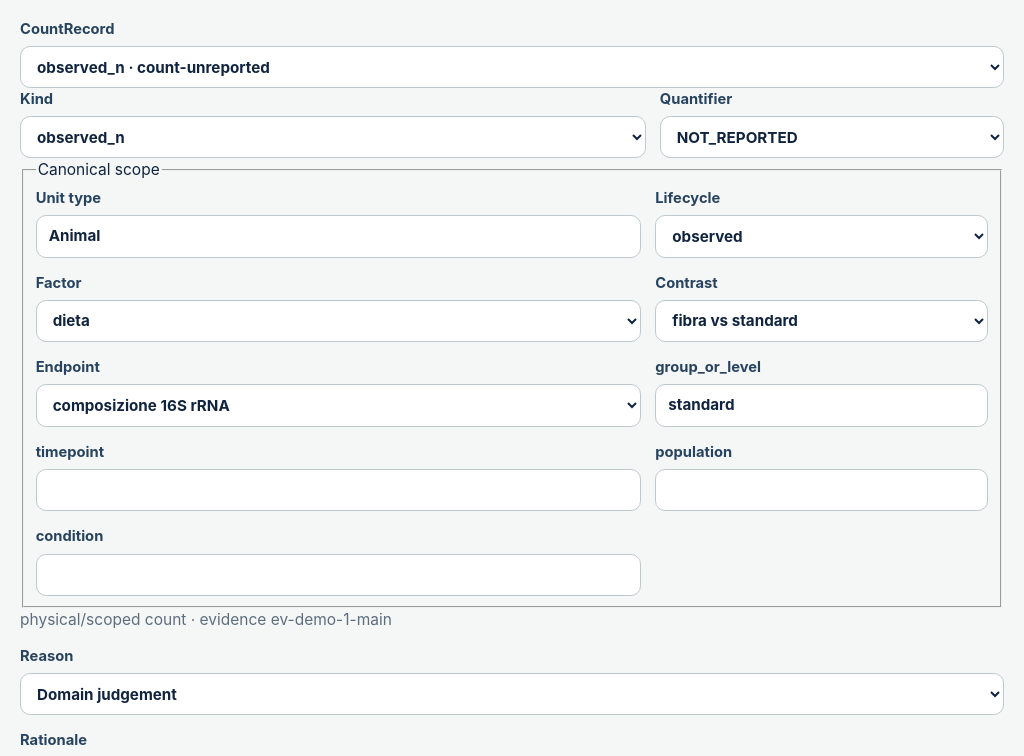
Test case: CanonicalCorrectionForm › requires both range bounds instead of pre-filling them
Select "RANGE" in the dropdown named "Count quantifier": (832, 137) [660,116,1004,158]
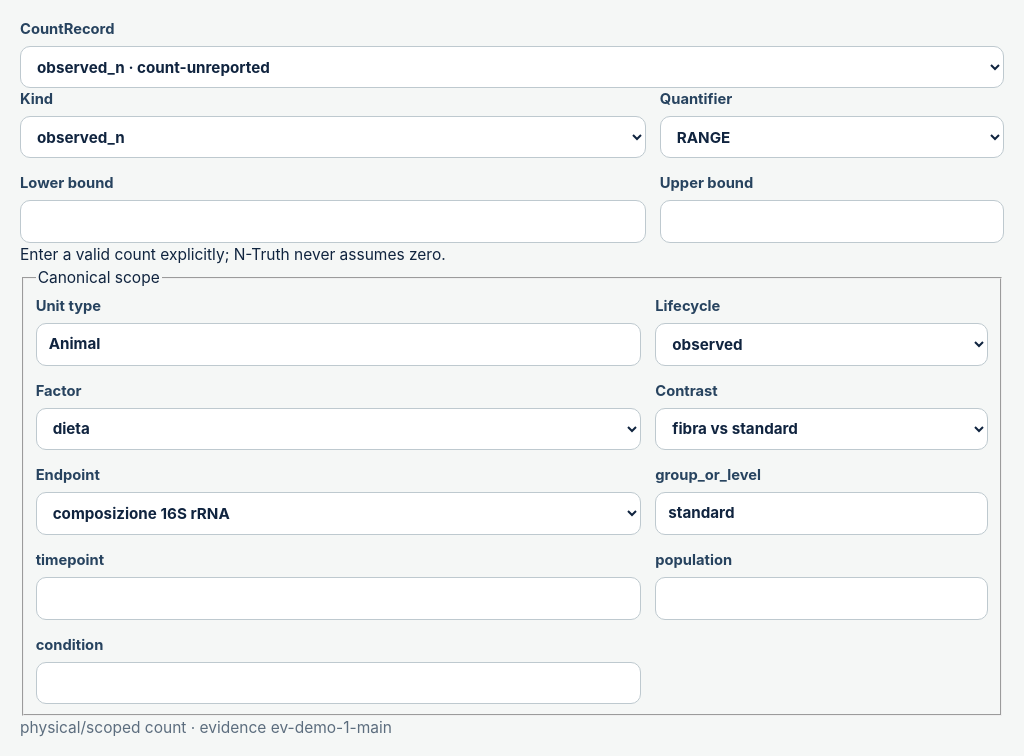
Expected: the number field named "Count lower bound" is not empty, [20,200,646,243]
Expected: the number field named "Count upper bound" is not empty, [660,200,1004,243]
Expected: the message shows "never assumes zero", [20,245,446,264]
